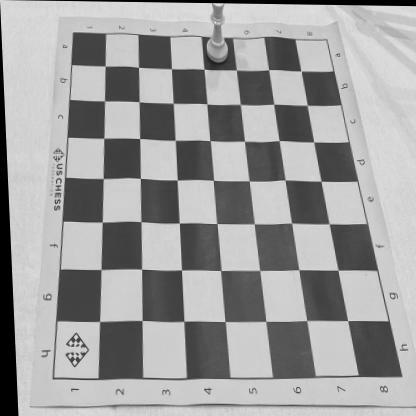white-king: (204, 2, 229, 64)
